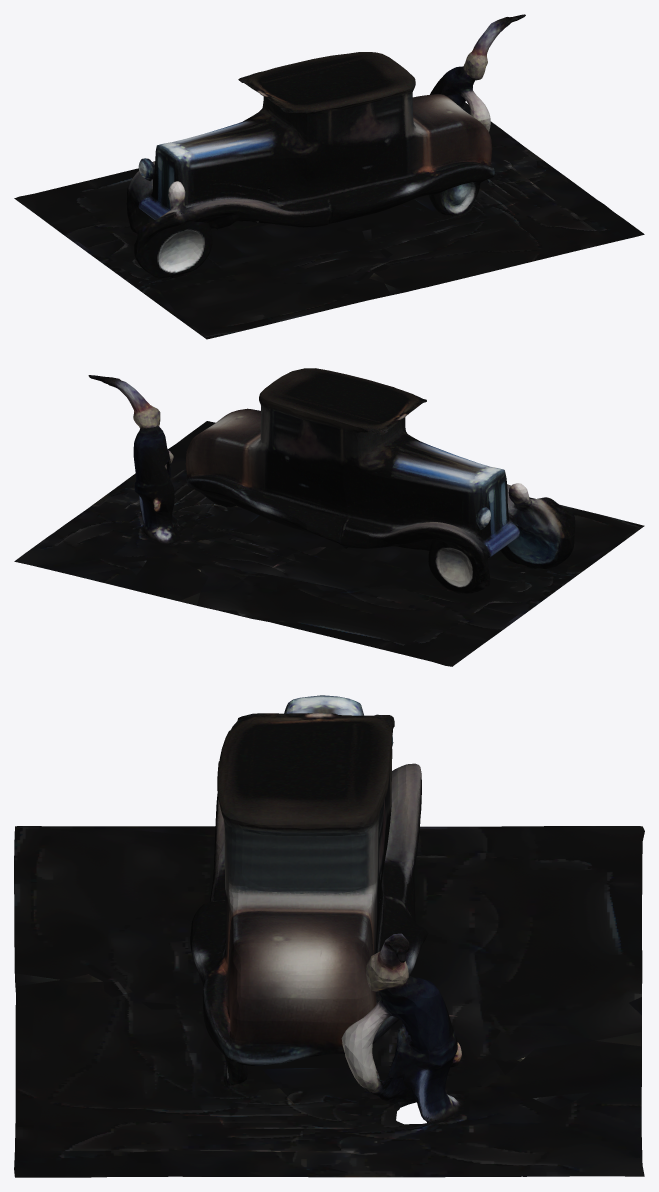
File: trellis_result.glb
3 renders of one model, top to bottom at view 1: azimuth 30°, elevation 25°; view 2: azimuth 150°, elevation 25°; view 3: azimuth 270°, elevation 25°, orthographic. The views are drawn at different scales.
Visible parts, largest first — view 1: world; view 2: world; view 3: world.
Part boxes in pixels (x1,y1,x2,y2): world: (14,14,644,339); world: (14,368,644,666); world: (14,695,644,1177).
Bounding box in the file's own units: 1 × 0.316 × 0.7656.
Materials: 1 (1 with a texture image).
